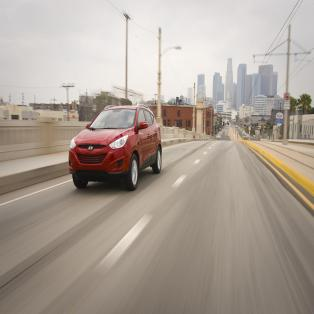Auto: (68, 103, 161, 191)
